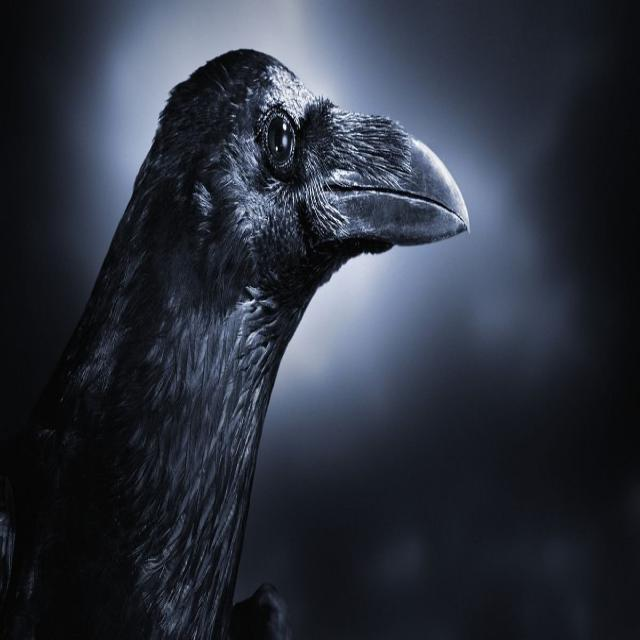crow: (170, 69, 420, 394)
